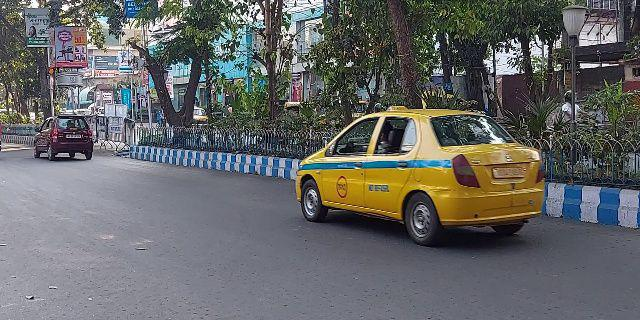Car: (286, 103, 550, 247), (30, 114, 95, 164)
